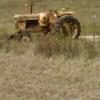Tractor: (10, 6, 84, 49)
